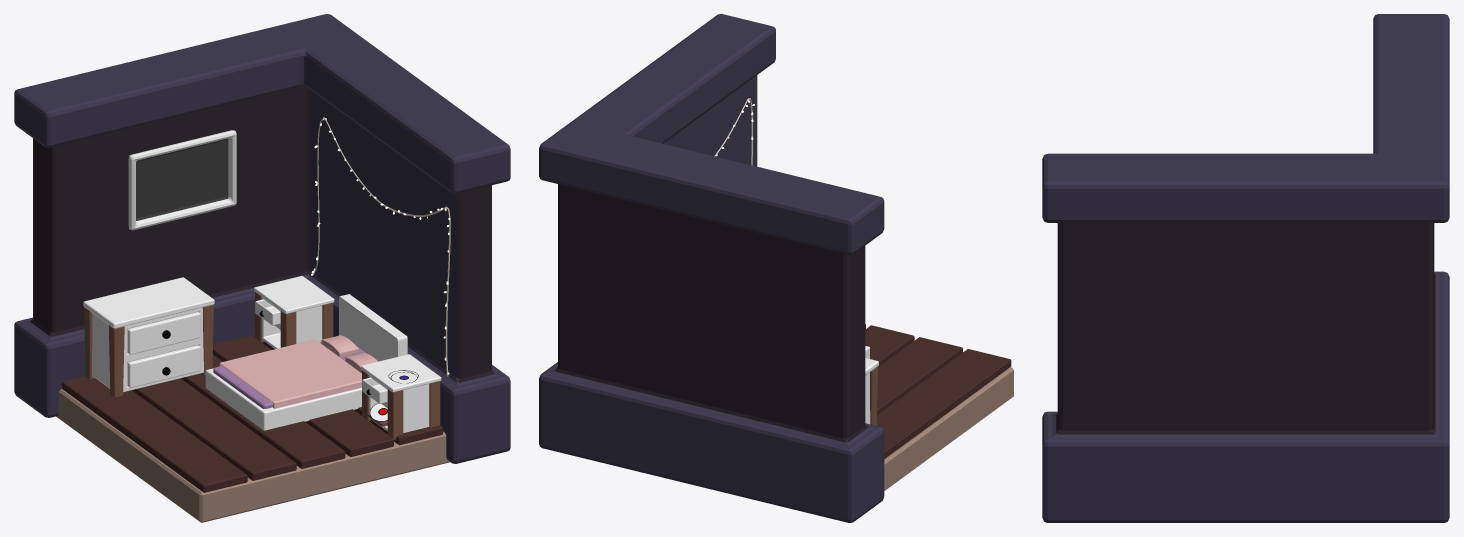
The model's file is room.glb.
3 views of the same model, side by side, from view 1: azimuth 30°, elevation 25°; view 2: azimuth 150°, elevation 25°; view 3: azimuth 270°, elevation 25° (orthographic). The views are drawn at different scales.
Visible parts, largest first — view 1: Cube, Plane.001, Plane, Plane.015, Cube.001, Plane.005, Plane.012, Plane.010, Plane.004, Plane.003, Plane.016, Plane.011 (+3 smaller); view 2: Cube, Plane.001, Plane; view 3: Cube.
Part boxes in pixels (<box>): Cube: <box>14,14,510,463</box>; Plane.001: <box>62,335,442,492</box>; Plane: <box>56,389,449,522</box>; Plane.015: <box>83,277,214,392</box>; Cube.001: <box>128,130,236,230</box>; Plane.005: <box>219,339,361,408</box>; Plane.012: <box>254,276,334,348</box>; Plane.010: <box>361,354,441,433</box>; Plane.004: <box>205,368,361,430</box>; Plane.003: <box>339,294,407,361</box>; Plane.016: <box>84,304,213,397</box>; Plane.011: <box>362,370,440,440</box>; Cube: <box>539,14,884,522</box>; Plane.001: <box>865,324,1011,458</box>; Plane: <box>884,367,1013,490</box>; Cube: <box>1042,14,1449,522</box>.
Size of the model in its own units: 2.16 by 2.02 by 2.16.
